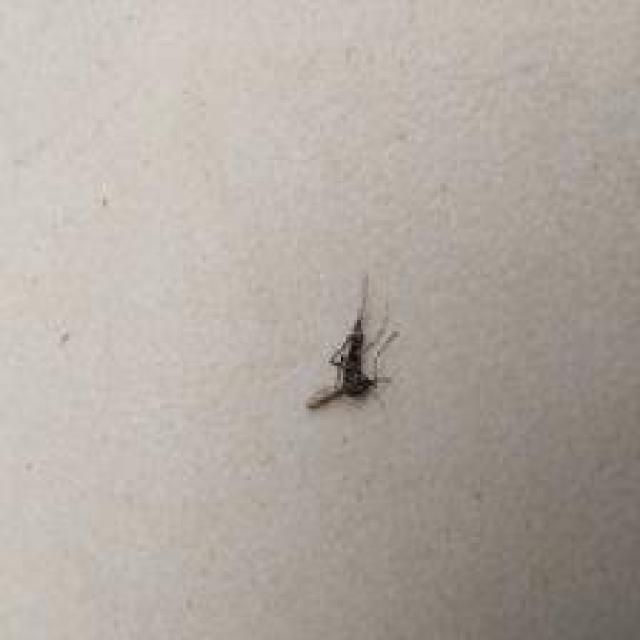Aedes albopictus: (304, 272, 402, 412)
